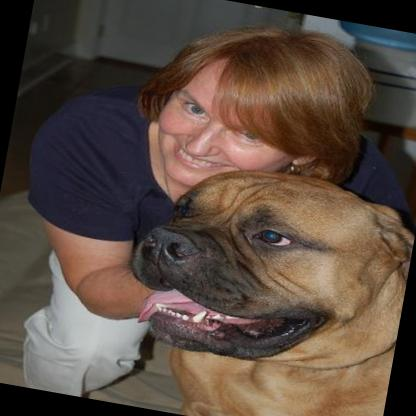bull_mastiff: (102, 146, 416, 416)
